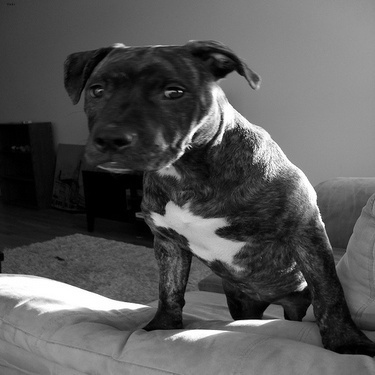dog: (52, 29, 374, 358)
